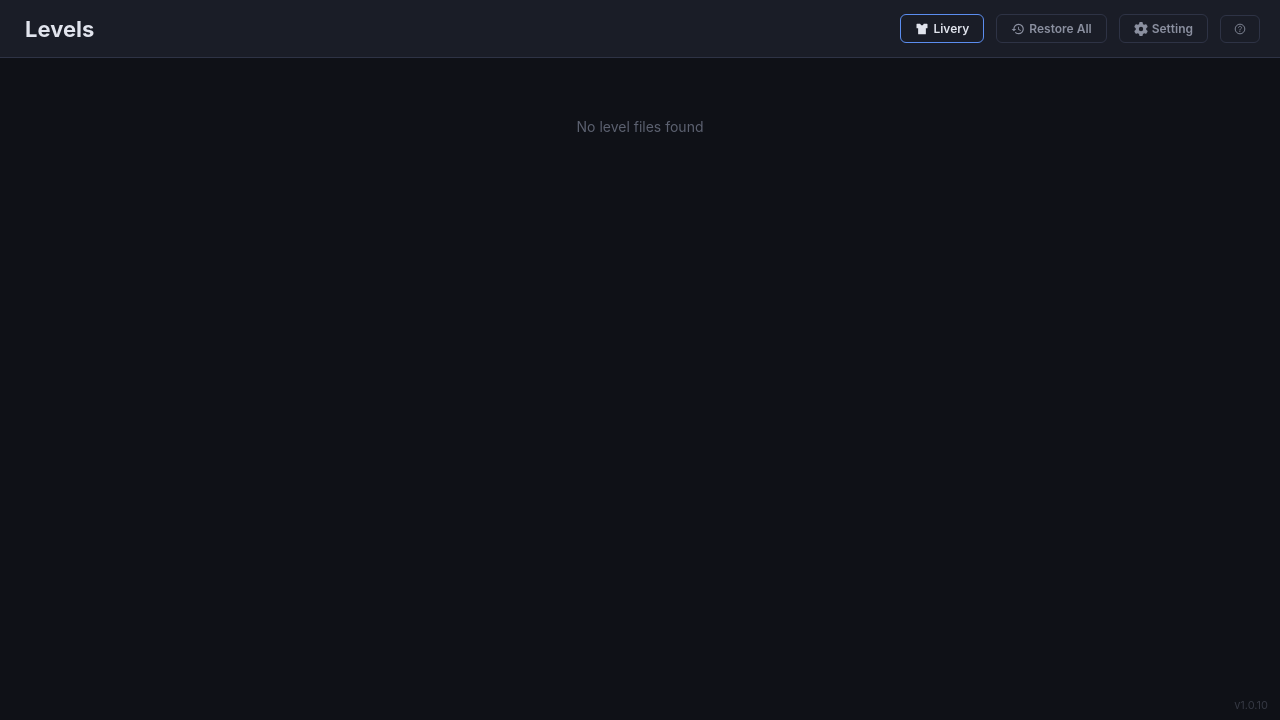
Scenario: Debug Mode Toggle › prompts a game restart after a successful Debug Mode install
expect the text "Levels" is shown: met, box [25,16,94,42]
What coordinates should you click on to do the following:
click the button "Setting"
I would click on:
 (1163, 28)
Its box is [1119,14,1208,43].
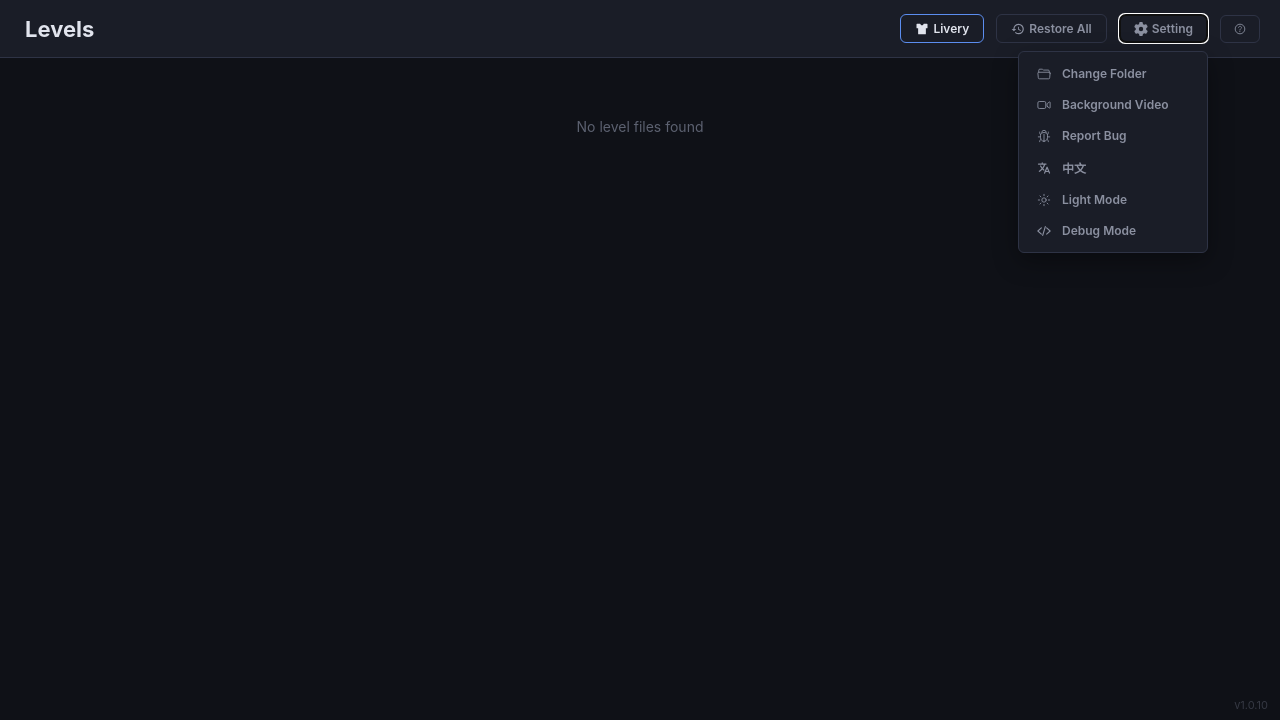
expect the menu item "Debug Mode" is shown: met
What coordinates should you click on to do the following:
click the menu item "Debug Mode"
I would click on:
 (1113, 230)
Its box is [1025,215,1201,246].
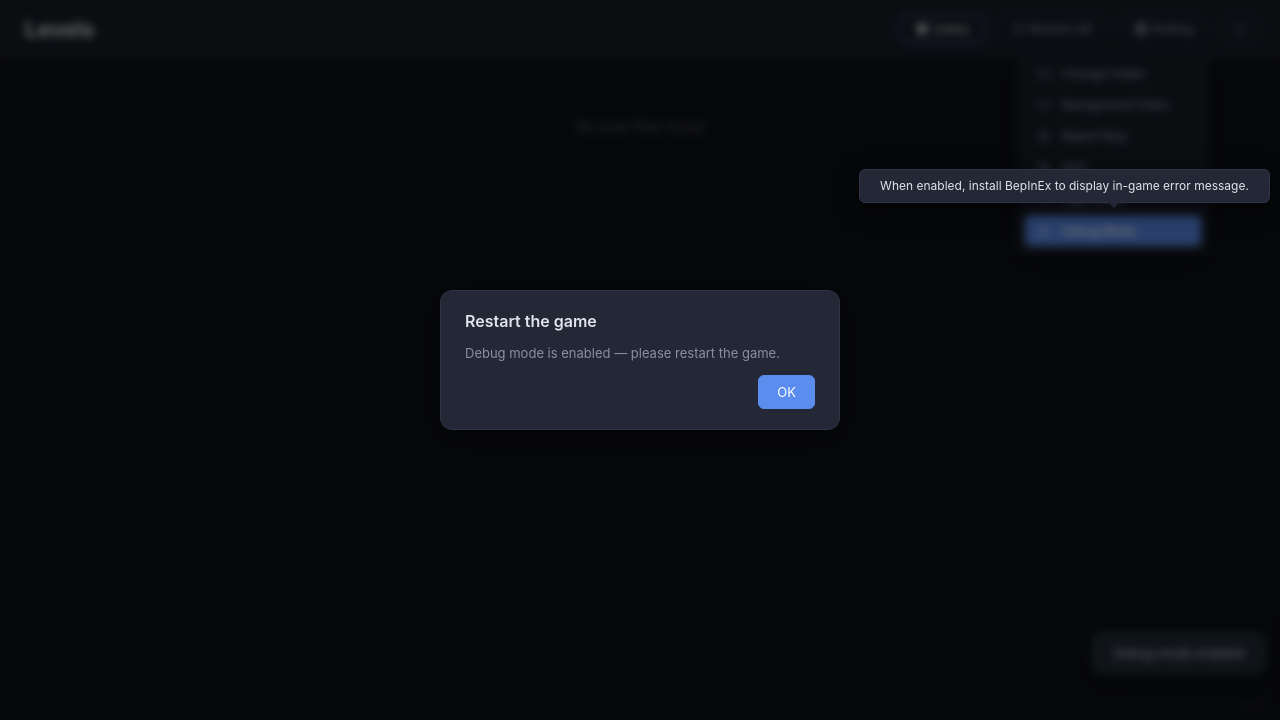
expect the heading "Restart the game" is shown: met, box [465,311,597,331]
expect the text "Debug mode is enabled — please restart the game." is shown: met, box [465,343,815,363]
What coordinates should you click on to do the following:
click the button with class "btn-confirm"
I would click on:
 (787, 392)
Its box is [758,375,815,409].
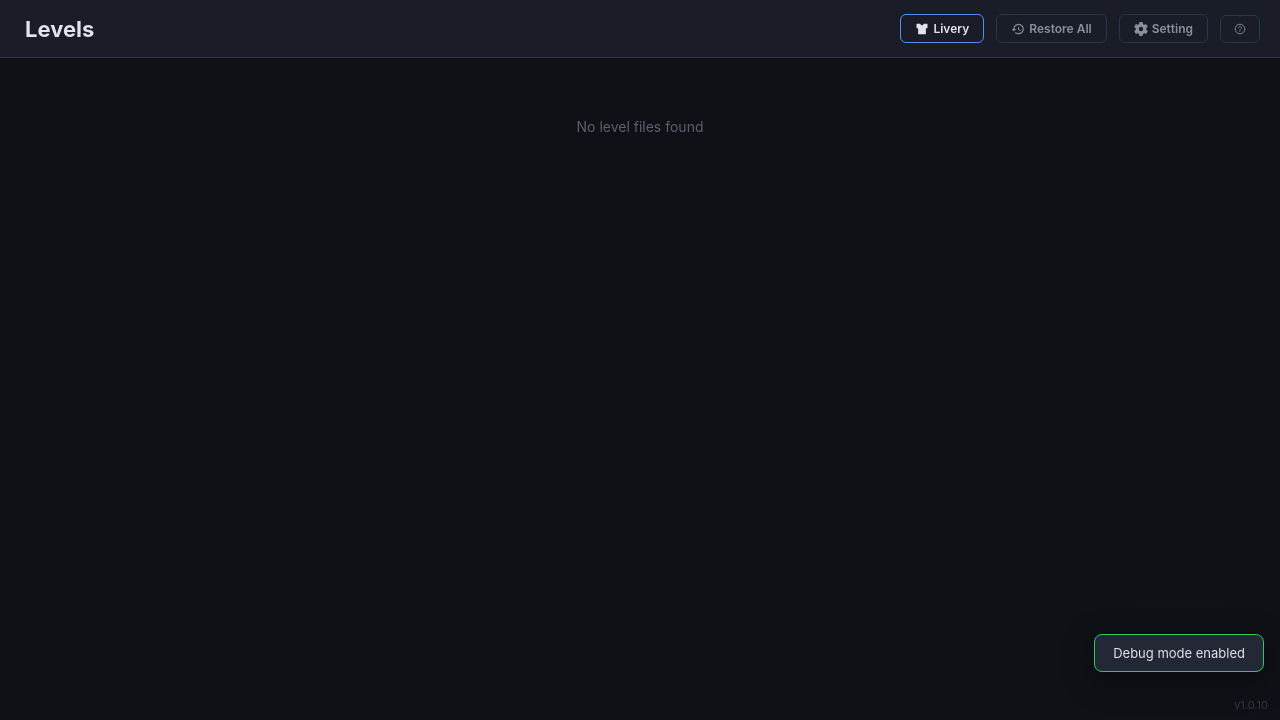
expect the heading "Restart the game" is gone: met
